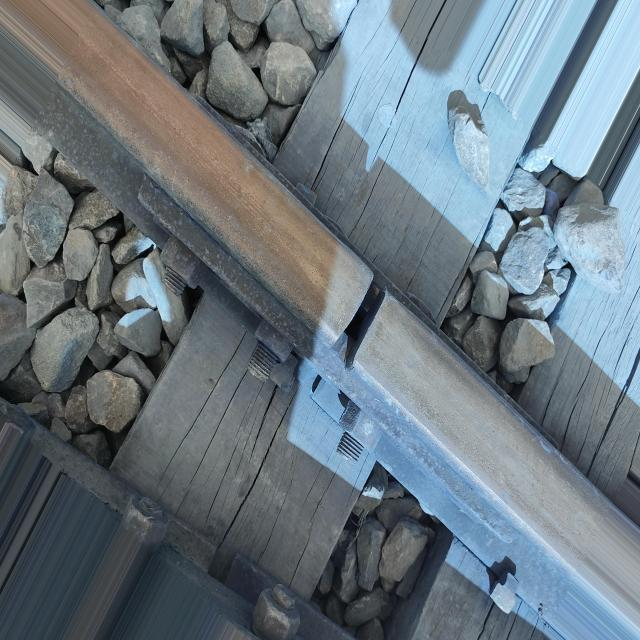Good Joint: (103, 54, 630, 625)
